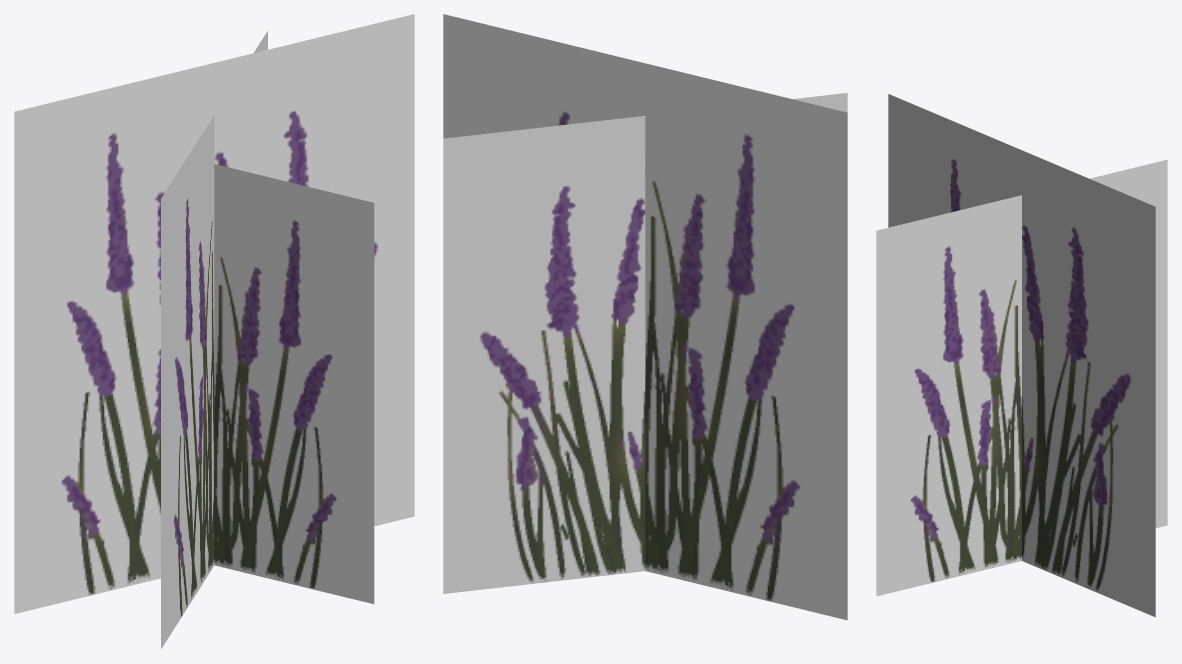
File: SM_Lavender.fbx
3 renders of one model, left to right at view 1: azimuth 30°, elevation 25°; view 2: azimuth 150°, elevation 25°; view 3: azimuth 270°, elevation 25°, orthographic. The views are drawn at different scales.
Visible parts, largest first — view 1: SM_Lavender; view 2: SM_Lavender; view 3: SM_Lavender.
Boxes of the visible parts, bbox=[...] form: SM_Lavender: bbox=[14, 14, 414, 649]; SM_Lavender: bbox=[443, 14, 847, 620]; SM_Lavender: bbox=[876, 94, 1167, 617].
Bounding box in the file's own units: 16.25 × 19.49 × 11.24.
